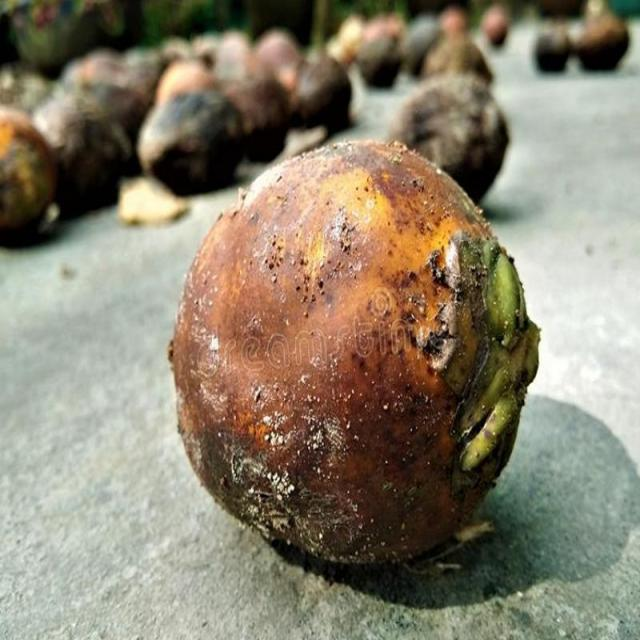damaged: (169, 143, 539, 560)
